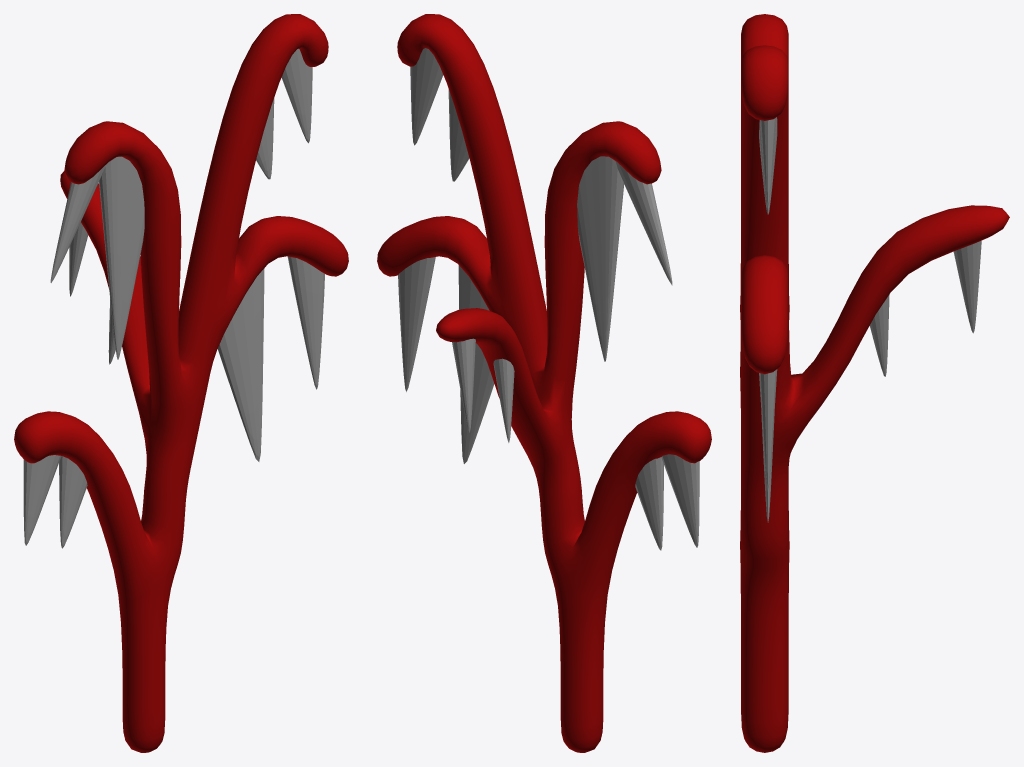
File: mars-tree-10.obj
3 views of the same model, side by side, from view 1: azimuth 30°, elevation 25°; view 2: azimuth 150°, elevation 25°; view 3: azimuth 270°, elevation 25° (orthographic). The views are drawn at different scales.
Parts seen in each view (by area): view 1: Tree.010_Cube.063; view 2: Tree.010_Cube.063; view 3: Tree.010_Cube.063.
Boxes of the visible parts, x1=… form: Tree.010_Cube.063: x1=14, y1=14, x2=348, y2=752; Tree.010_Cube.063: x1=377, y1=14, x2=711, y2=752; Tree.010_Cube.063: x1=740, y1=14, x2=1009, y2=752.
Size of the model in its own units: 1.68 by 3.41 by 1.07.
